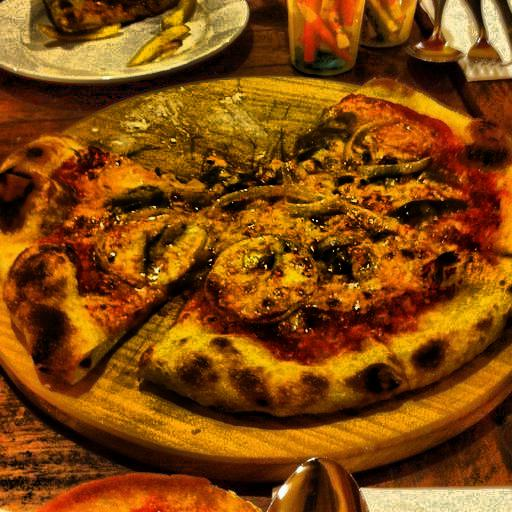pizza: (15, 83, 507, 415)
